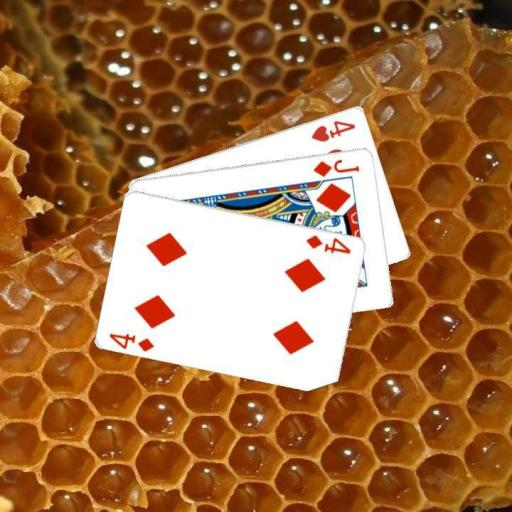card-corner: (308, 117, 357, 143), (303, 231, 353, 255), (106, 330, 156, 354), (310, 156, 361, 178)
